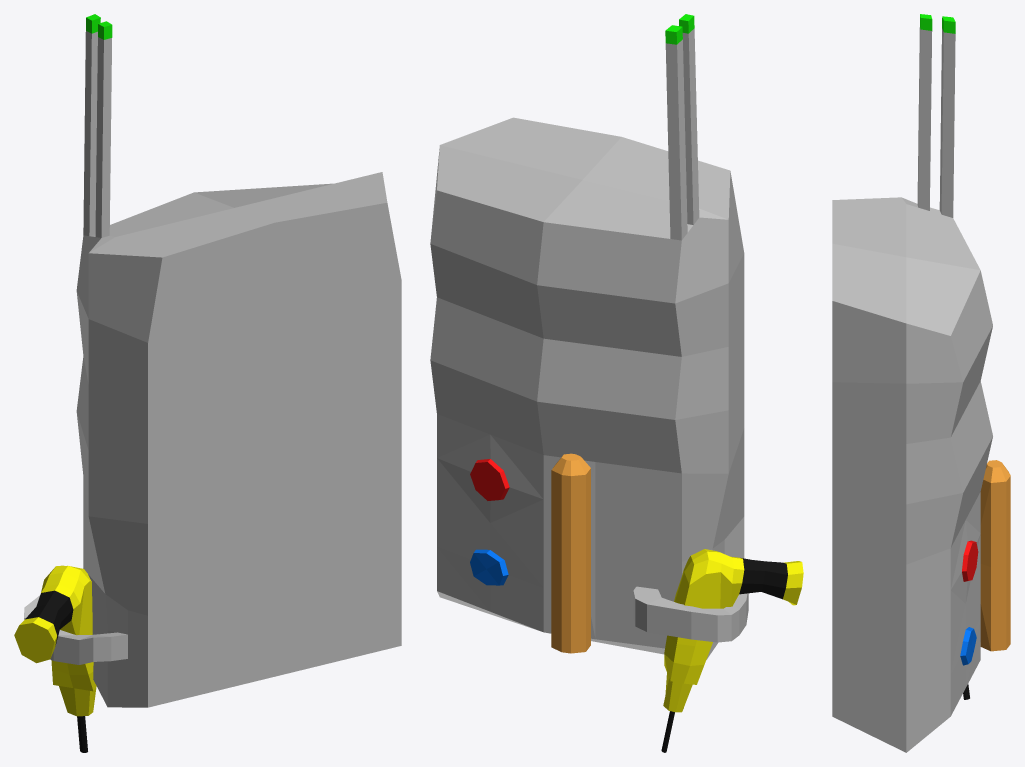
File: Player_AstronautBackpack.fbx
3 renders of one model, left to right at view 1: azimuth 30°, elevation 25°; view 2: azimuth 150°, elevation 25°; view 3: azimuth 270°, elevation 25°, orthographic. The views are drawn at different scales.
Visible parts, largest first — view 1: Cube.001; view 2: Cube.001; view 3: Cube.001.
Boxes of the visible parts, x1,y1,x2,y2 form: Cube.001: (14,14,401,752); Cube.001: (430,14,803,752); Cube.001: (832,14,1010,752).
Size of the model in its own units: 102 by 196 by 46.35.
